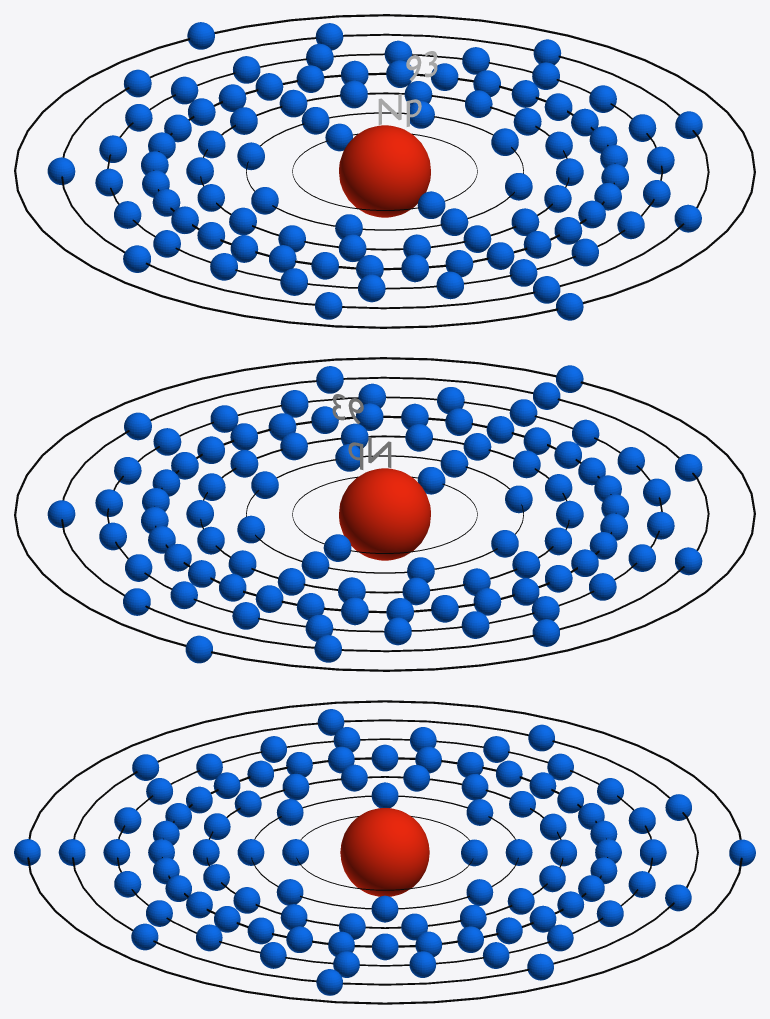
3 renders of one model, top to bottom at view 1: azimuth 30°, elevation 25°; view 2: azimuth 150°, elevation 25°; view 3: azimuth 270°, elevation 25°, orthographic. The views are drawn at different scales.
Parts seen in each view (by area): view 1: Np4, Np5, Np3, Proton, Np6, Np2, n7, n6, n5, Np7, Np1, n3 (+3 smaller); view 2: Np4, Np5, Np3, Proton, Np6, Np2, n7, n6, n5, Np7, Np1, n3 (+3 smaller); view 3: Np4, Np5, Np3, Proton, Np6, Np2, n7, n6, n5, Np1, Np7, n3 (+2 smaller).
Part boxes in pixels (<box>): Np4: <box>141,60,628,282</box>; Np5: <box>95,40,674,302</box>; Np3: <box>186,80,583,261</box>; Proton: <box>339,125,430,217</box>; Np6: <box>47,23,702,319</box>; Np2: <box>237,101,532,239</box>; n7: <box>14,14,755,328</box>; n6: <box>61,33,709,309</box>; n5: <box>107,53,663,289</box>; Np7: <box>187,22,583,320</box>; Np1: <box>325,123,445,218</box>; n3: <box>200,92,569,250</box>; Np4: <box>141,403,628,625</box>; Np5: <box>95,383,674,645</box>; Np3: <box>186,423,583,605</box>; Proton: <box>339,468,430,560</box>; Np6: <box>47,366,702,662</box>; Np2: <box>237,444,532,582</box>; n7: <box>14,357,755,671</box>; n6: <box>61,376,709,652</box>; n5: <box>106,396,662,632</box>; Np7: <box>185,365,583,663</box>; Np1: <box>323,467,445,561</box>; n3: <box>200,435,569,593</box>; Np4: <box>148,744,621,960</box>; Np5: <box>103,727,666,977</box>; Np3: <box>193,764,576,940</box>; Proton: <box>340,808,429,896</box>; Np6: <box>58,709,691,995</box>; Np2: <box>237,782,532,922</box>; n7: <box>27,700,742,1004</box>; n6: <box>72,719,698,985</box>; n5: <box>117,738,652,966</box>; Np1: <box>282,839,487,866</box>; Np7: <box>14,839,755,866</box>; n3: <box>206,776,563,928</box>.
Size of the model in its own units: 802 by 180 by 830.
